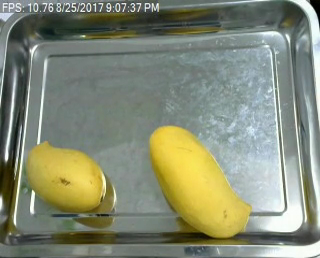Mango: (144, 122, 253, 240), (23, 139, 107, 213)
